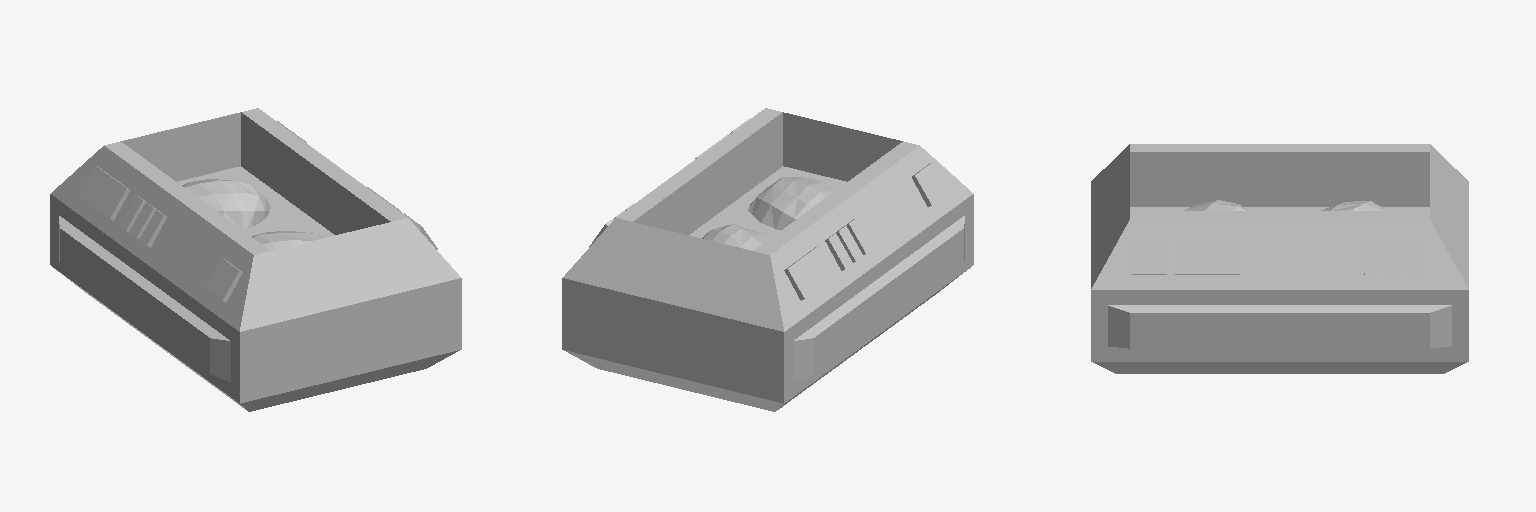
File: Hydroponics_Empty.obj
3 views of the same model, side by side, from view 1: azimuth 30°, elevation 25°; view 2: azimuth 150°, elevation 25°; view 3: azimuth 270°, elevation 25° (orthographic).
Parts seen in each view (by area): view 1: Hydroponics_Empty; view 2: Hydroponics_Empty; view 3: Hydroponics_Empty.
Part boxes in pixels (bbox=[...]): Hydroponics_Empty: bbox=[50, 108, 461, 411]; Hydroponics_Empty: bbox=[562, 108, 973, 411]; Hydroponics_Empty: bbox=[1091, 144, 1468, 373].
Size of the model in its own units: 1.61 by 0.9472 by 2.18.